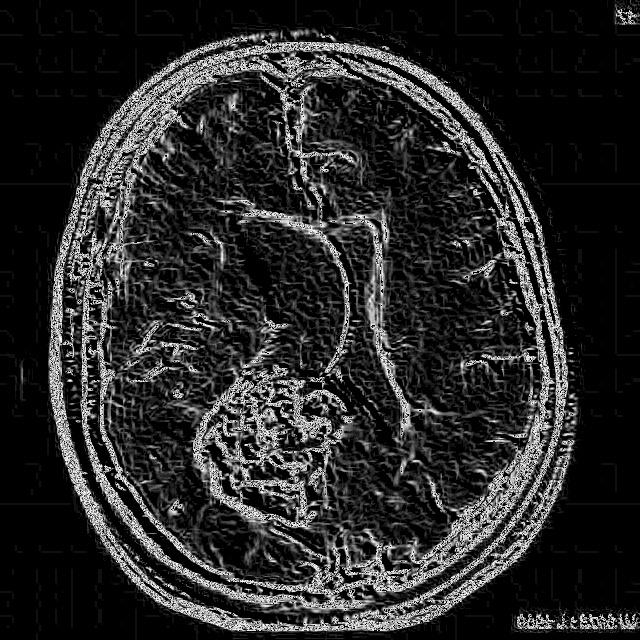Brain-Tumor: (178, 344, 364, 546)
